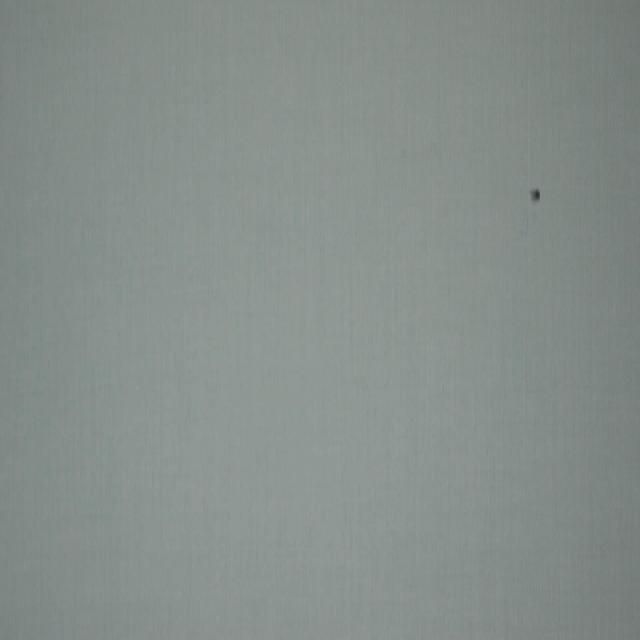dirty: (531, 189, 541, 201)
